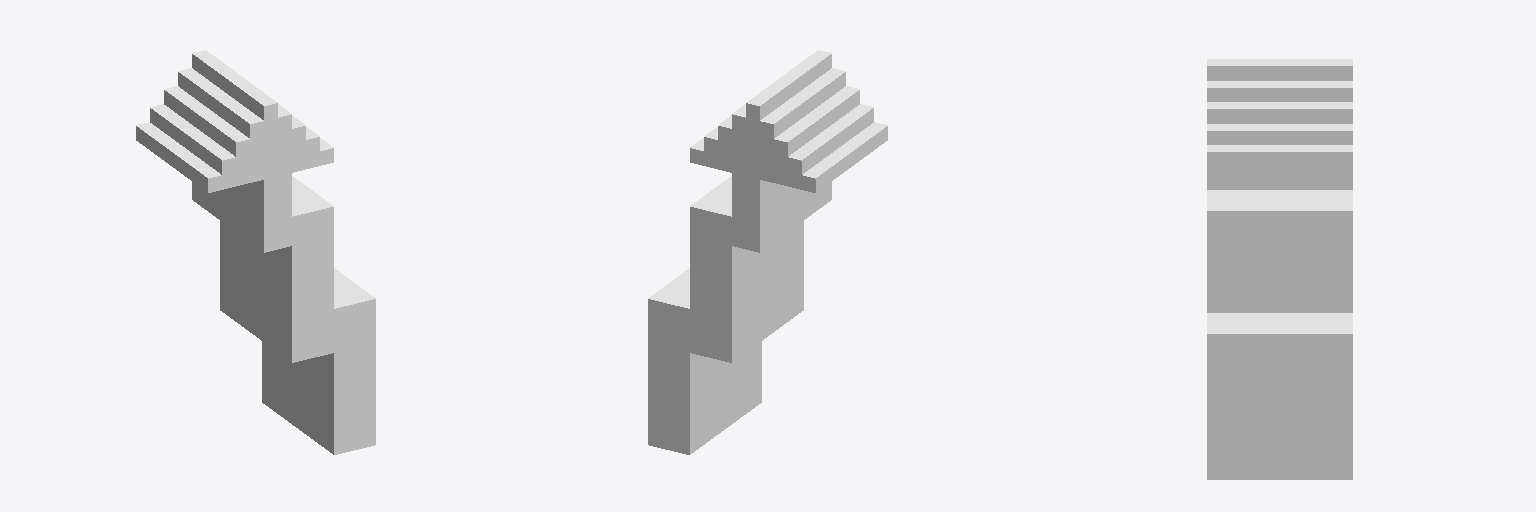
File: Accelerator.obj
The picture shows the model from 3 angles: view 1: azimuth 30°, elevation 25°; view 2: azimuth 150°, elevation 25°; view 3: azimuth 270°, elevation 25°; orthographic projection.
Visible parts, largest first — view 1: object 1; view 2: object 1; view 3: object 1.
Boxes of the visible parts, x1=… form: object 1: x1=136, y1=50, x2=375, y2=454; object 1: x1=648, y1=50, x2=887, y2=454; object 1: x1=1207, y1=59, x2=1352, y2=479.
Size of the model in its own units: 1.2 by 2.5 by 0.9.